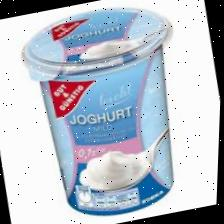plastic: (10, 0, 208, 224)
